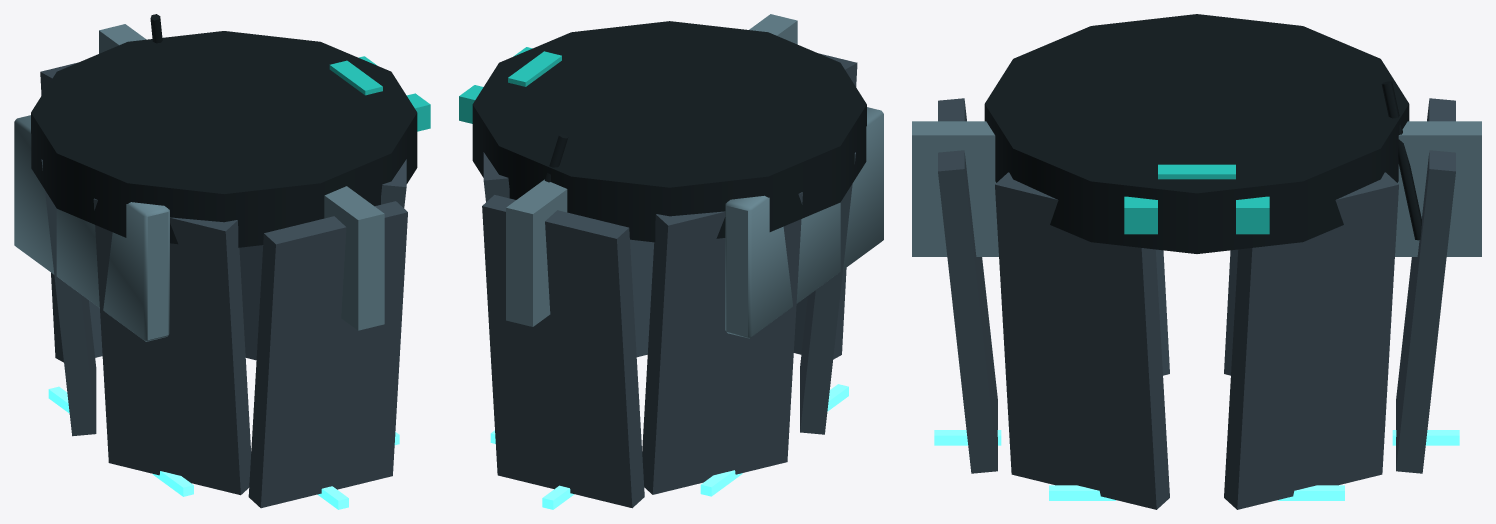
File: invocador_tunica.glb
3 renders of one model, left to right at view 1: azimuth 30°, elevation 25°; view 2: azimuth 150°, elevation 25°; view 3: azimuth 270°, elevation 25°, orthographic. The views are drawn at different scales.
Visible parts, largest first — view 1: invocador_tunica; view 2: invocador_tunica; view 3: invocador_tunica.
Part boxes in pixels (x1,y1,x2,y2): invocador_tunica: (14,14,430,509); invocador_tunica: (459,14,883,509); invocador_tunica: (912,14,1481,509).
Bounding box in the file's own units: 0.387 × 0.3665 × 0.51.
